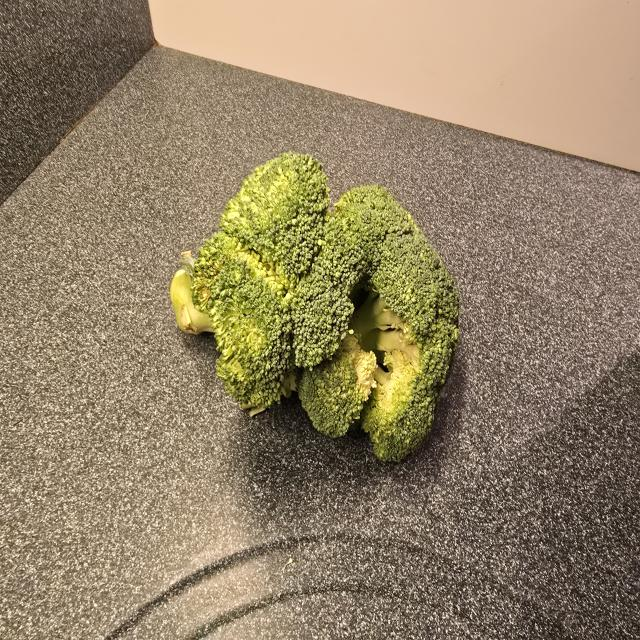Broccoli: (166, 137, 472, 482)
